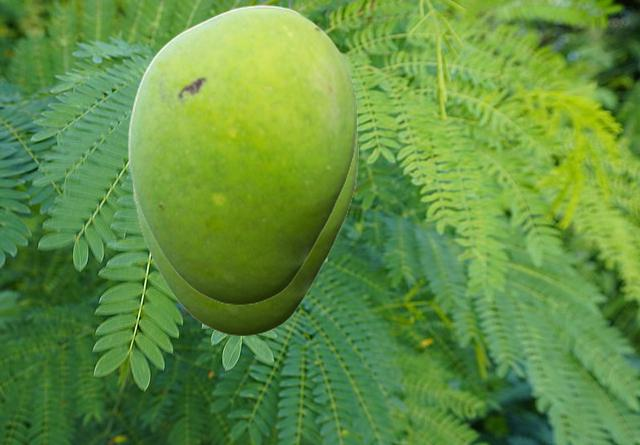green_mango: (127, 4, 356, 304), (132, 120, 357, 335)
